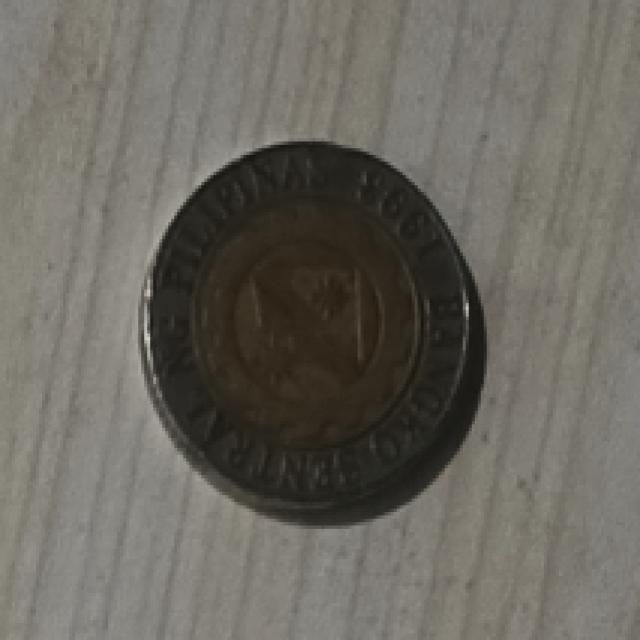10_peso: (141, 141, 481, 515)
